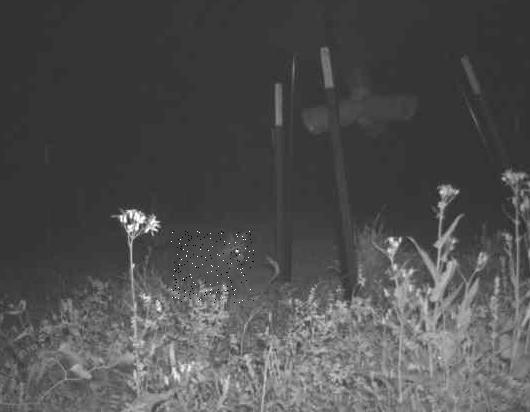Raccoon: (171, 232, 254, 304)
